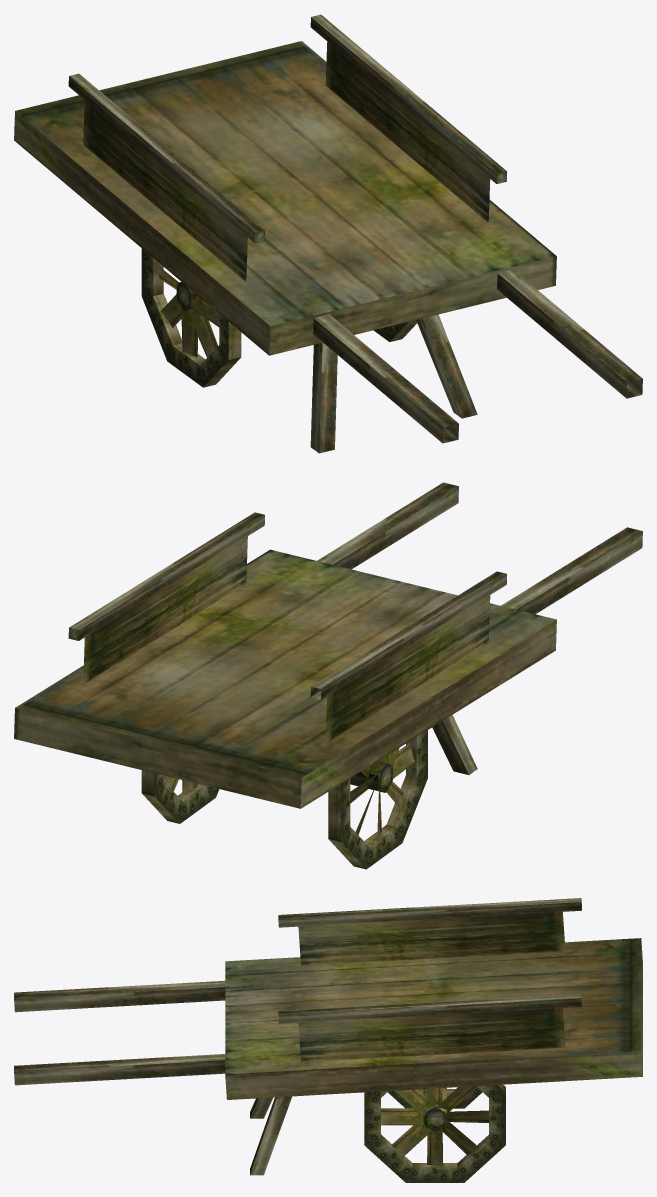
Rendered from a_wujian_mache.fbx.
3 renders of one model, top to bottom at view 1: azimuth 30°, elevation 25°; view 2: azimuth 150°, elevation 25°; view 3: azimuth 270°, elevation 25°, orthographic. The views are drawn at different scales.
Visible parts, largest first — view 1: polySurface252, polySurface251, polySurface258, polySurface257, polySurface249, polySurface263, polySurface262, polySurface259, polySurface255, polySurface266, polySurface265, polySurface244 (+5 smaller); view 2: polySurface252, polySurface264, polySurface251, polySurface258, polySurface257, polySurface259, polySurface255, polySurface263, polySurface262, polySurface266, polySurface243, polySurface246 (+5 smaller); view 3: polySurface252, polySurface254, polySurface261, polySurface250, polySurface262, polySurface263, polySurface255, polySurface259, polySurface265, polySurface227, polySurface226, polySurface228 (+10 smaller).
Boxes of the visible parts, x1,y1,x2,y2 form: polySurface252: (15, 41, 556, 326); polySurface251: (14, 111, 270, 355); polySurface258: (83, 100, 246, 280); polySurface257: (325, 42, 489, 222); polySurface249: (269, 256, 556, 355); polySurface263: (313, 314, 458, 443); polySurface262: (497, 269, 642, 398); polySurface259: (68, 73, 264, 242); polySurface255: (310, 14, 506, 183); polySurface266: (310, 342, 337, 453); polySurface265: (416, 314, 477, 418); polySurface244: (142, 293, 182, 360); polySurface252: (15, 549, 556, 777); polySurface264: (14, 708, 301, 808); polySurface251: (300, 620, 556, 808); polySurface258: (326, 595, 490, 743); polySurface257: (84, 536, 247, 684); polySurface259: (310, 571, 506, 699); polySurface255: (69, 512, 264, 640); polySurface263: (501, 527, 642, 614); polySurface262: (317, 482, 458, 569); polySurface266: (432, 715, 477, 774); polySurface243: (328, 778, 350, 841); polySurface246: (386, 775, 427, 842); polySurface252: (225, 938, 641, 1075); polySurface254: (298, 1008, 565, 1062); polySurface261: (298, 912, 565, 965); polySurface250: (225, 1052, 642, 1099); polySurface262: (14, 1054, 225, 1085); polySurface263: (14, 980, 225, 1012); polySurface255: (278, 994, 581, 1023); polySurface259: (278, 898, 581, 927); polySurface265: (250, 1096, 292, 1175); polySurface227: (406, 1163, 464, 1182); polySurface226: (457, 1135, 505, 1182); polySurface228: (364, 1134, 412, 1182).
Bounding box in the file's own units: 1.42 × 1.13 × 3.3.
